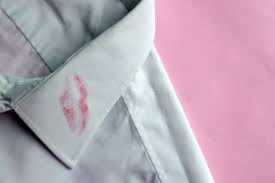kimchi: (63, 73, 93, 135)
